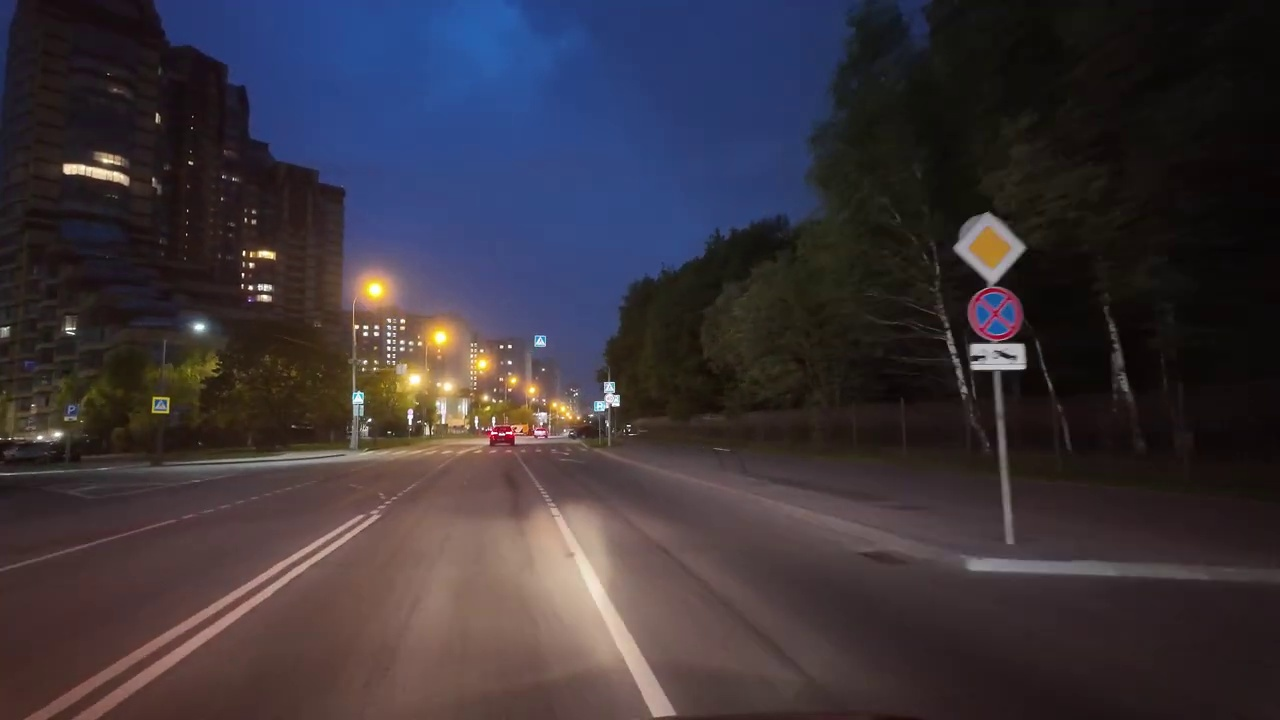acesa: (357, 274, 391, 306), (425, 323, 454, 350), (189, 316, 213, 339)
